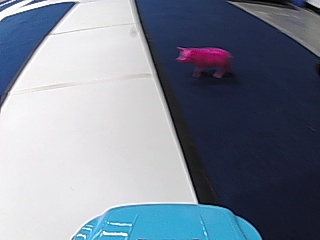pig: (175, 42, 233, 80)
